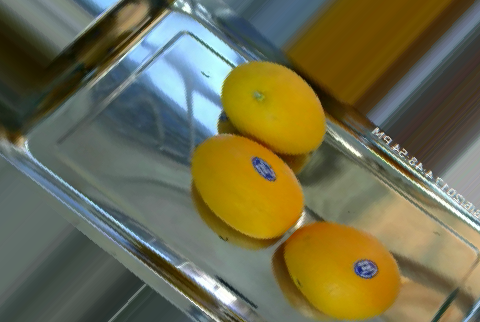Orange: (283, 221, 403, 322), (191, 134, 305, 238), (222, 61, 327, 156)
